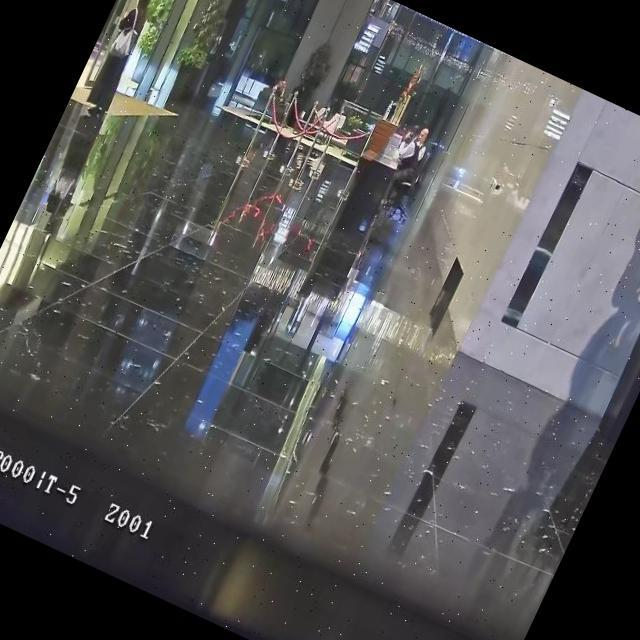person: (82, 0, 162, 113), (376, 121, 435, 206), (407, 125, 435, 162), (270, 74, 292, 99)
